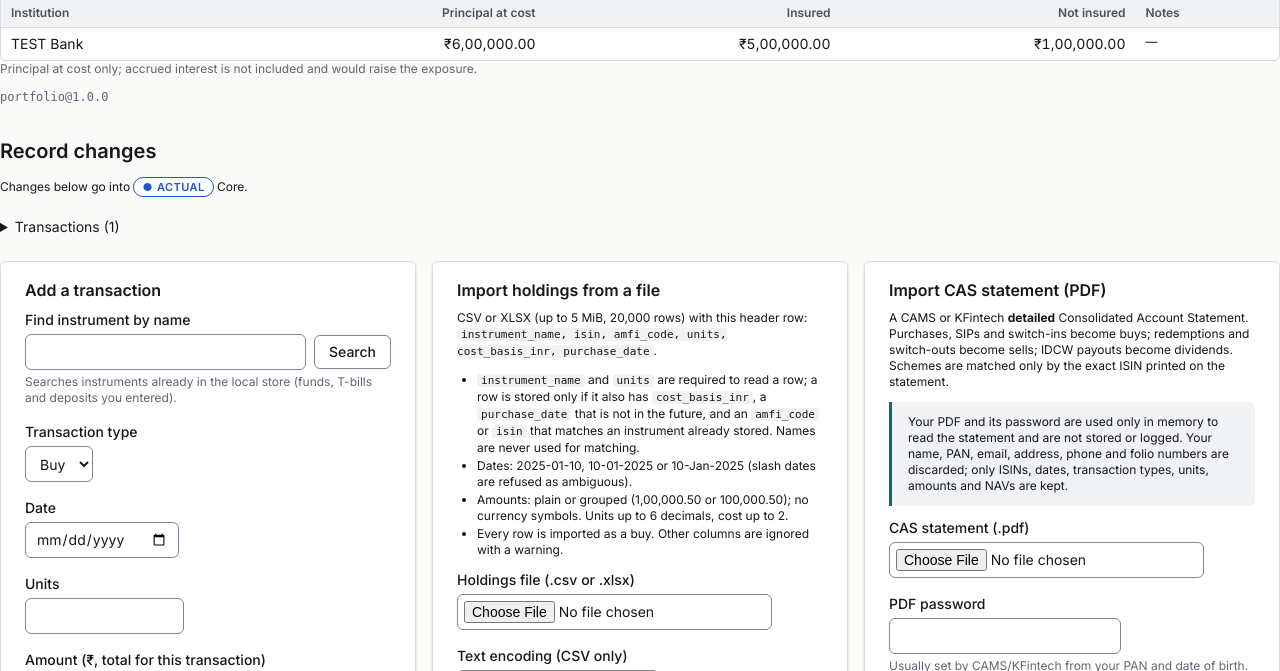
it: Overview — transactions › explains an OVERSELL refusal in plain words
(page scrolled)
Type "TEST" into the field labelled "Find instrument by name".
click(166, 352); type("TEST")  # box x1=25 y1=334 x2=306 y2=370
Click the button "Search".
click(352, 352)  # box x1=314 y1=335 x2=391 y2=369
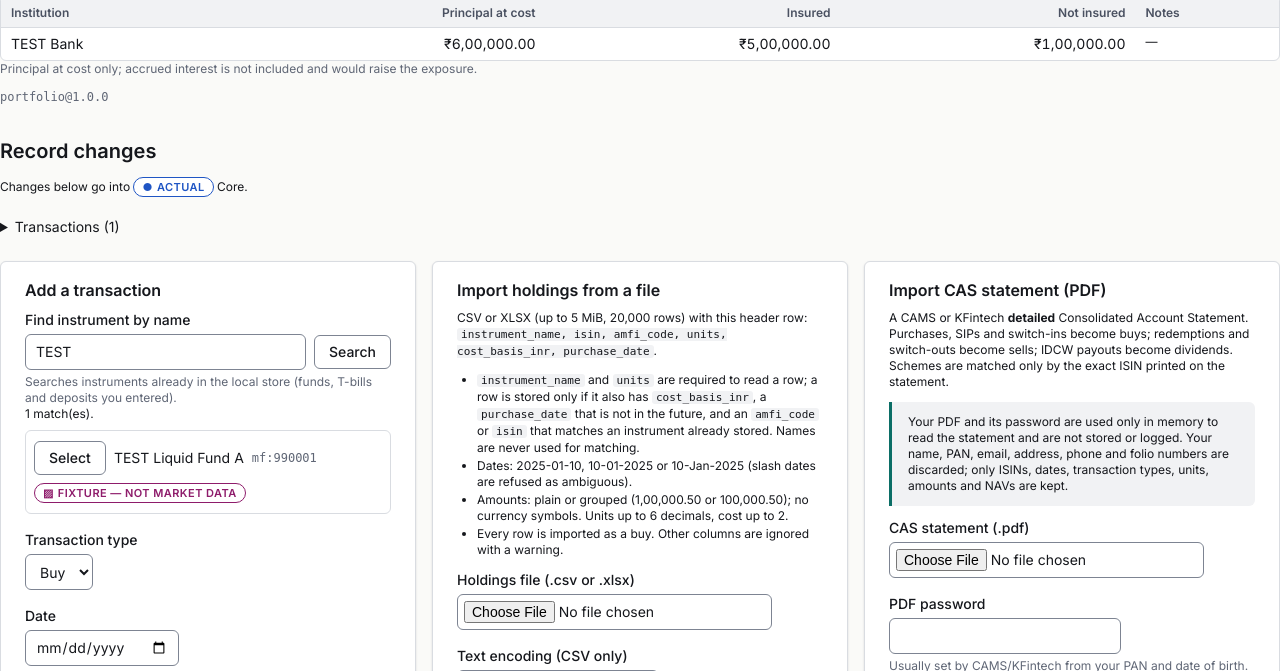
Click the button with aria-label "Select TEST Liquid Fund A".
click(70, 458)  # box x1=34 y1=441 x2=106 y2=475
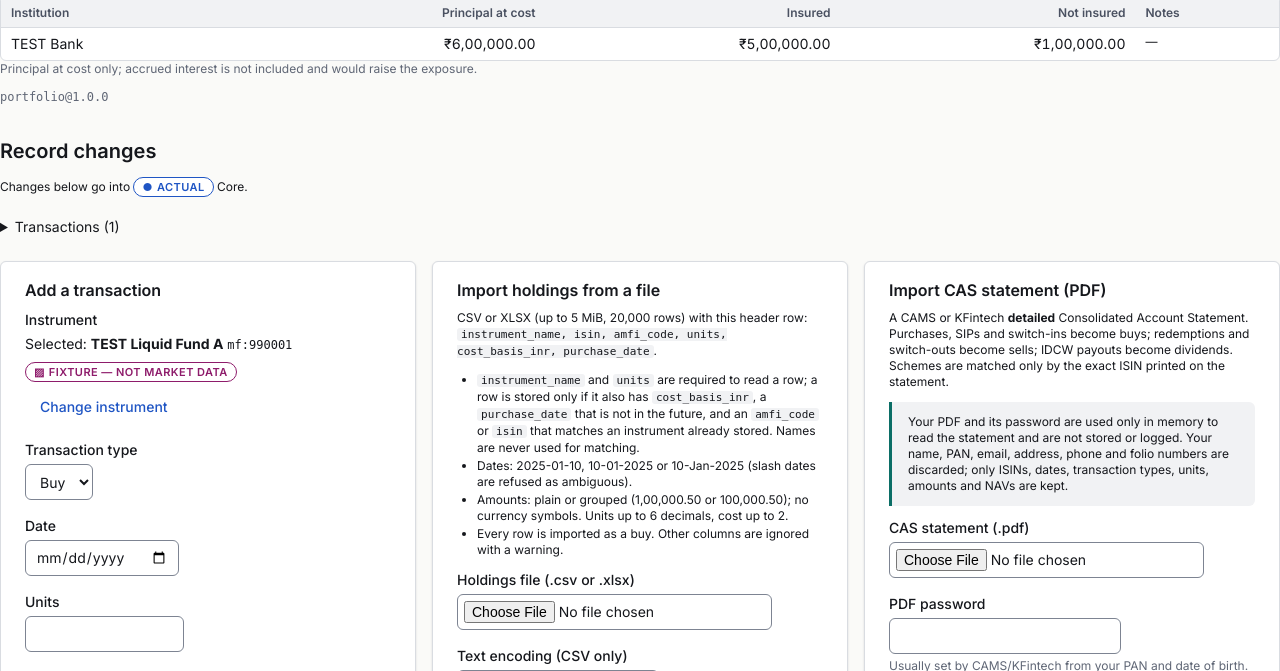
Select "Sell" in the dropdown labelled "Transaction type" at (59, 482), box x1=25 y1=464 x2=93 y2=500
Type "2025-02-10" into the date field labelled "Date".
click(102, 558); type("2025-02-10")  # box x1=25 y1=540 x2=179 y2=576
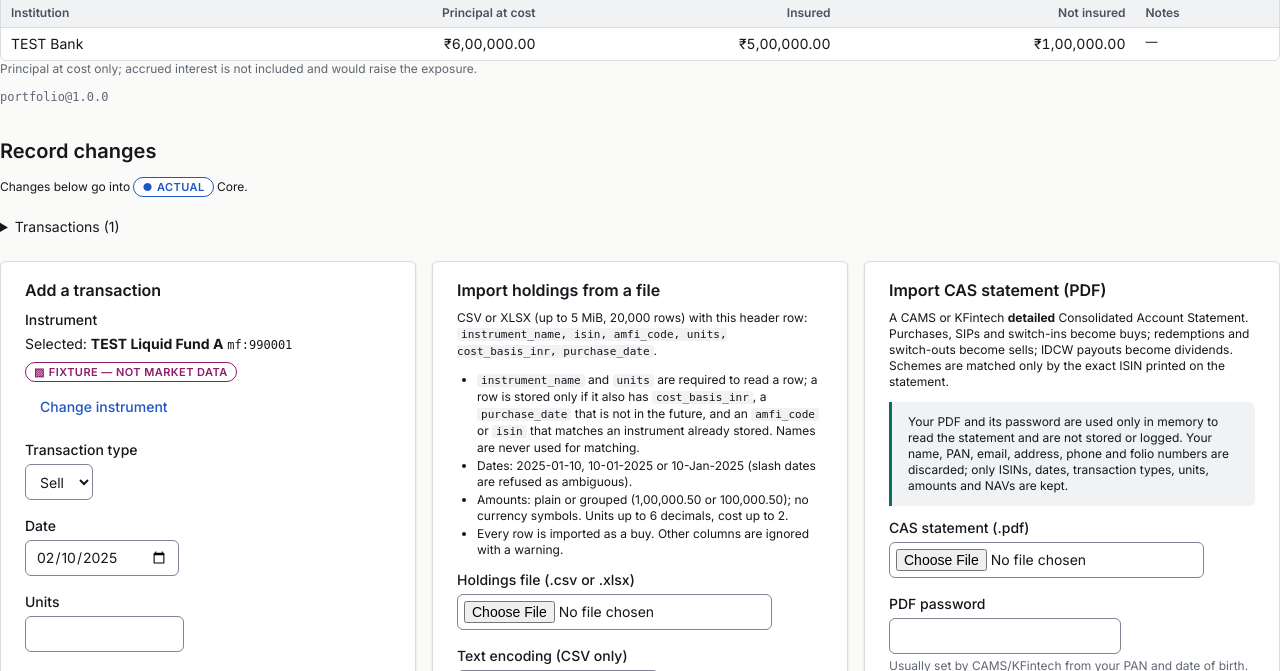
Type "10.5" into the field labelled "Units".
click(104, 634); type("10.5")  # box x1=25 y1=616 x2=184 y2=652
(page scrolled)
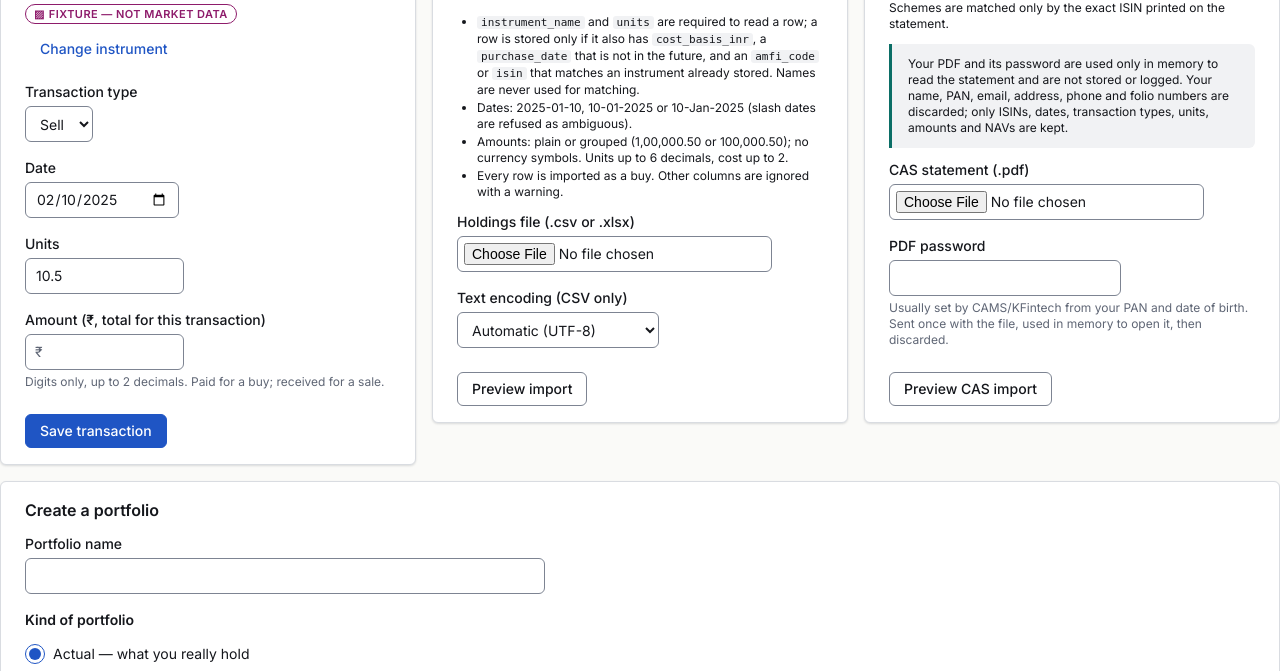
Type "1,25,000.50" into the field labelled "Amount (₹, total for this transaction)".
click(104, 352); type("1,25,000.50")  # box x1=25 y1=334 x2=184 y2=370
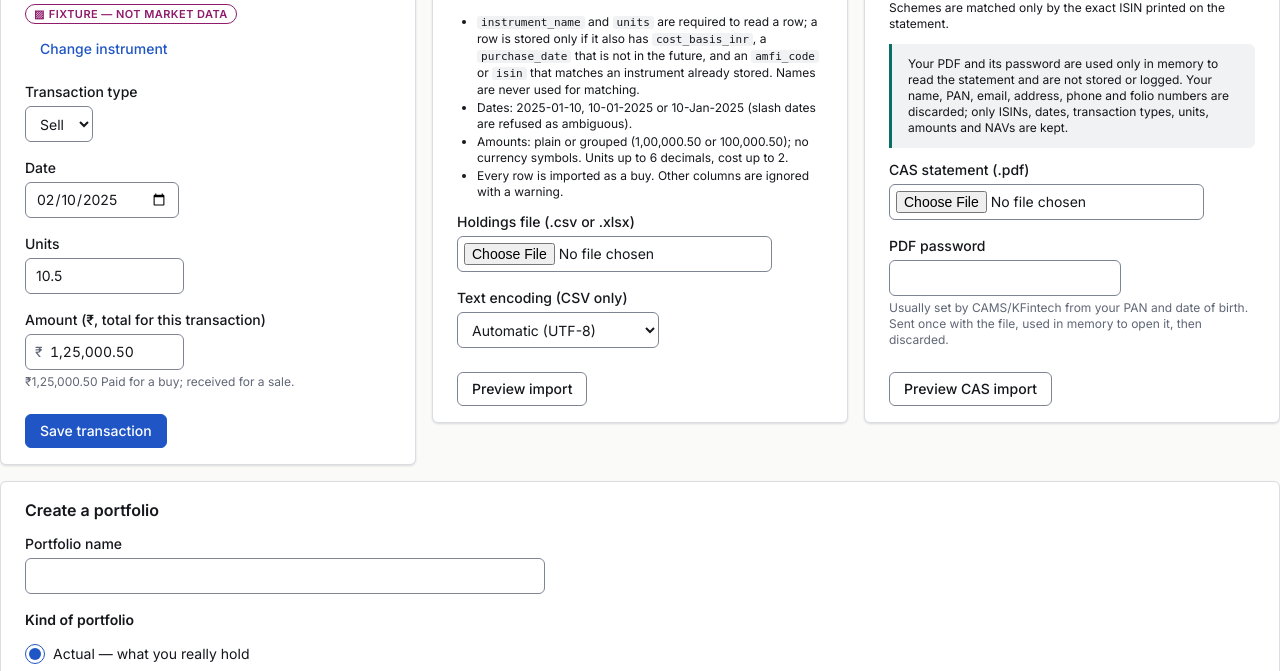
Click the button "Save transaction".
click(96, 431)  # box x1=25 y1=414 x2=167 y2=448
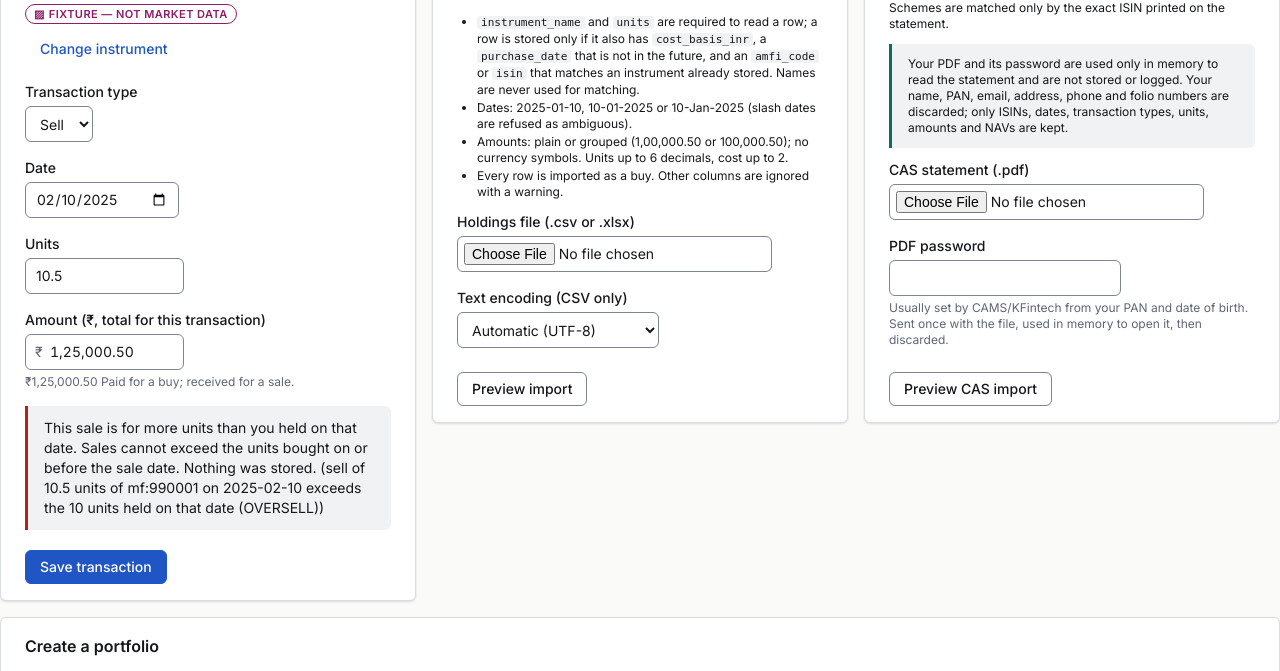
Now the text "This sale is for more units than you held on that date" shows "Nothing was stored.", box x1=44 y1=419 x2=368 y2=516
Now the text "This sale is for more units than you held on that date" shows "exceeds the 10 units held on that date", box x1=44 y1=419 x2=368 y2=516
